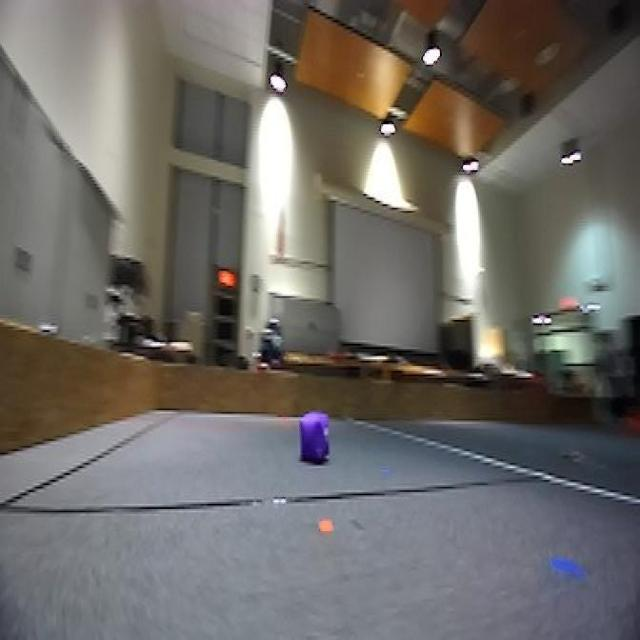frc_cube: (299, 412, 332, 468)
